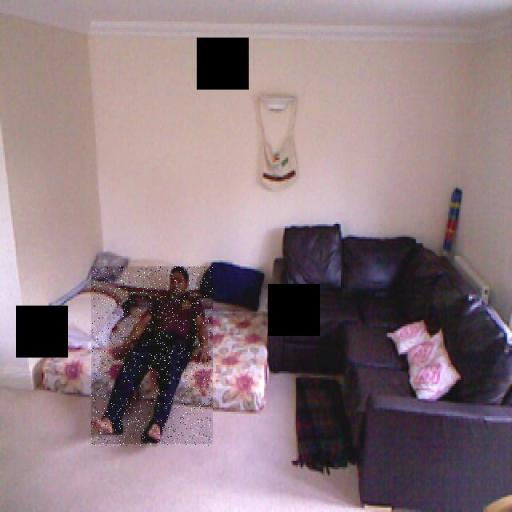Fall: (91, 268, 213, 447)
